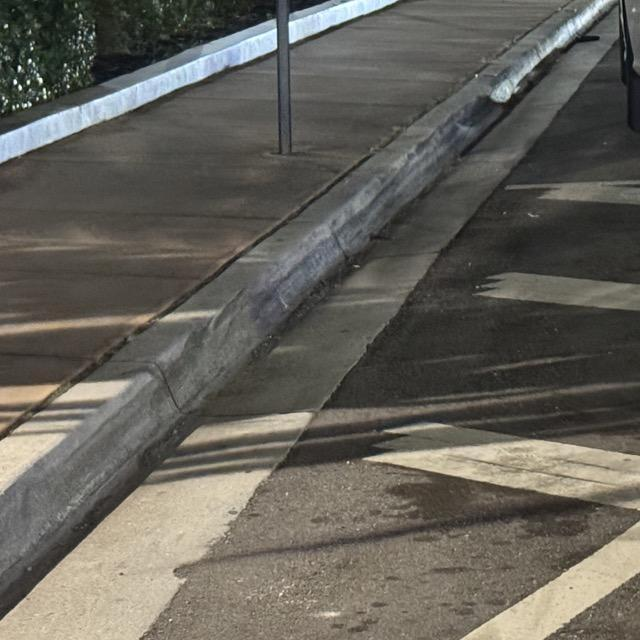curb: (0, 0, 616, 610), (0, 20, 276, 163), (289, 0, 398, 43)
